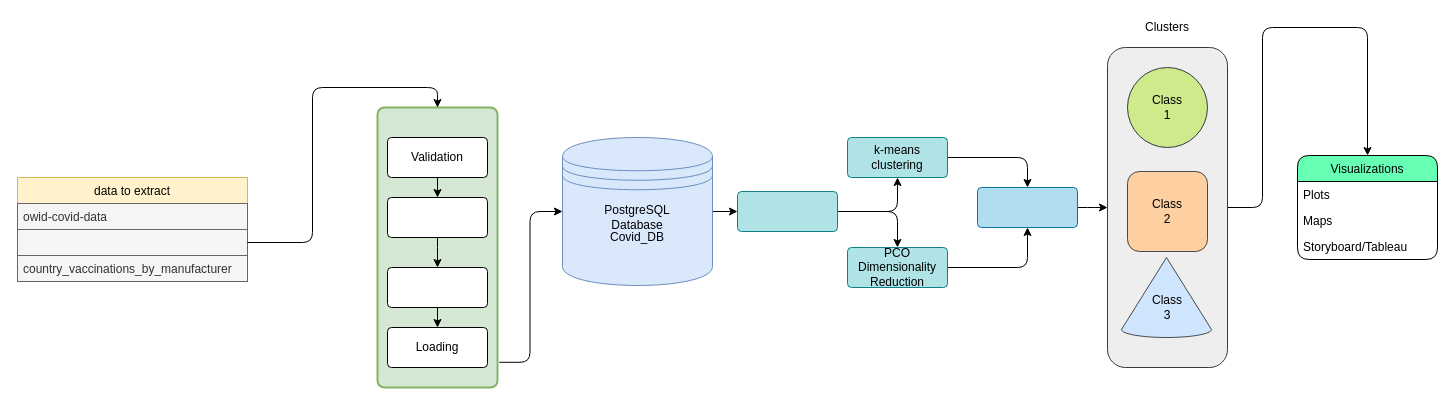
The diagram is 1455 pixels wide and 405 high, and some of its shapes have lost their labels. Here are the shapes that lost their labels. From the top down, the centre of each, then its label:
At point (437, 217): "Cleaning".
At point (787, 211): "Unsupervised Machine Learning".
At point (1027, 207): "Processing".
At point (132, 242): "country_vaccinations".
At point (437, 287): "Aggregating".
